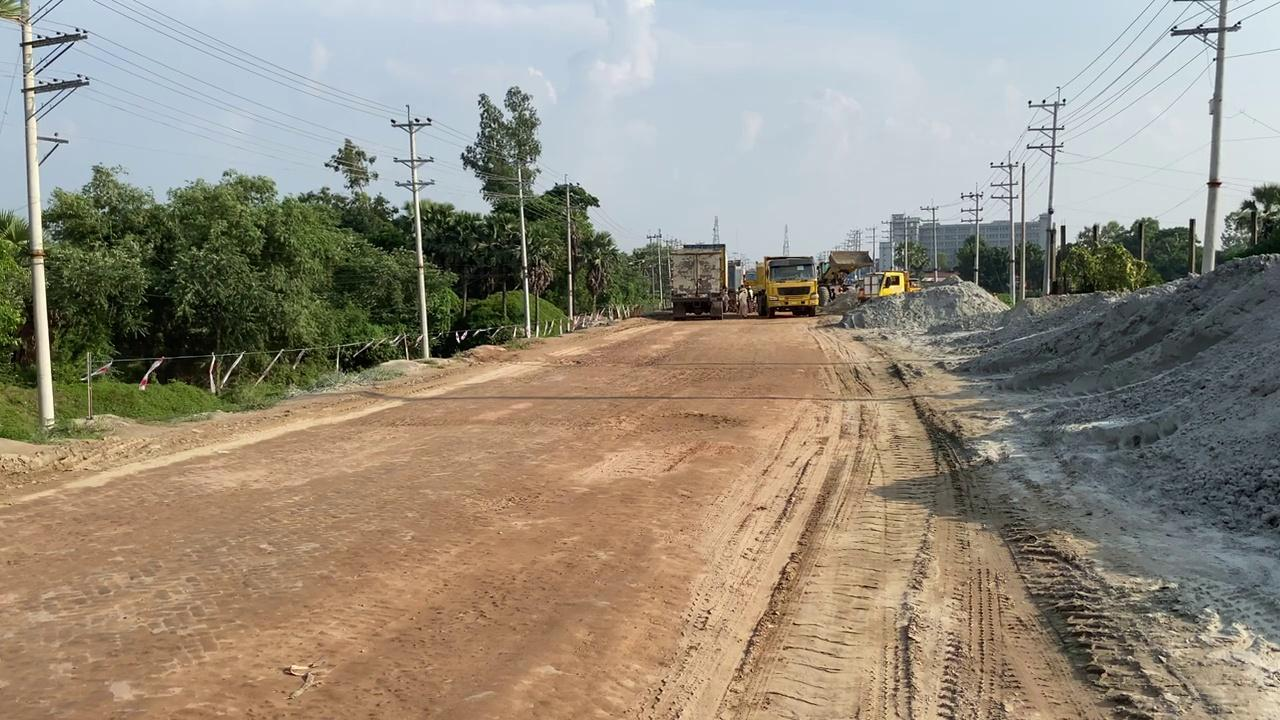Pole: (18, 9, 56, 431), (390, 103, 435, 359), (1201, 0, 1228, 274), (516, 162, 532, 337), (564, 174, 574, 327)
Tree: (666, 242, 921, 320), (741, 255, 820, 317), (667, 243, 728, 319), (817, 249, 874, 307), (856, 270, 921, 303)
